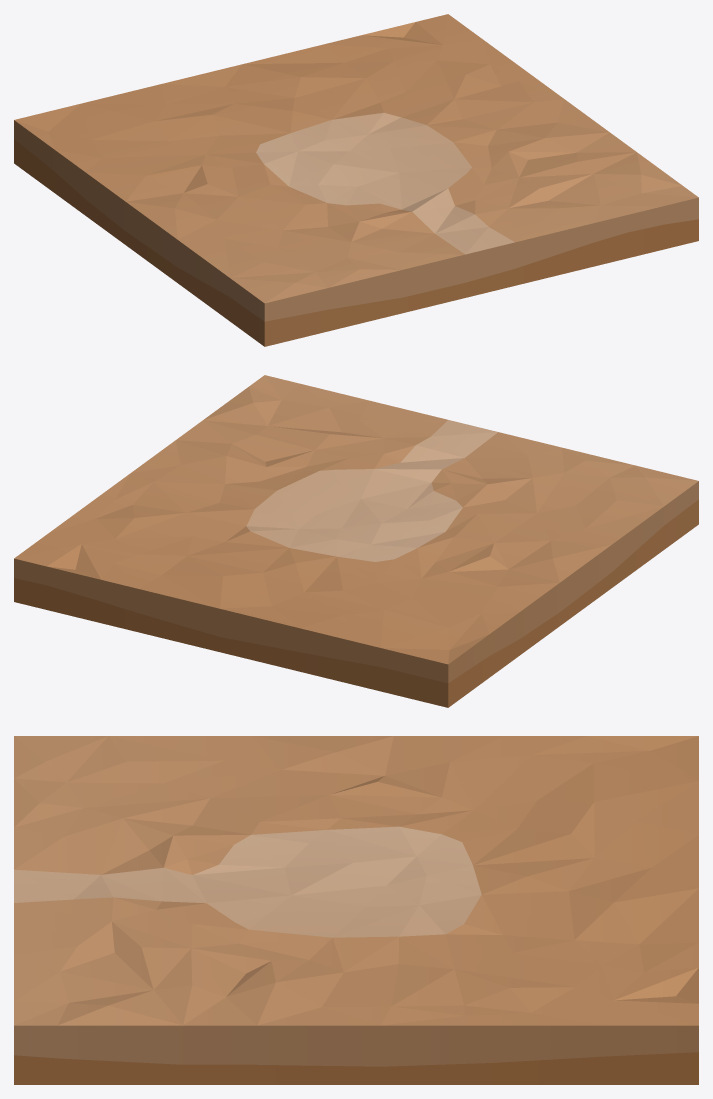
The model's file is land abandoned house.fbx.
3 views of the same model, one above another, from view 1: azimuth 30°, elevation 25°; view 2: azimuth 150°, elevation 25°; view 3: azimuth 270°, elevation 25° (orthographic). The views are drawn at different scales.
Parts seen in each view (by area): view 1: land abandoned house; view 2: land abandoned house; view 3: land abandoned house.
Boxes of the visible parts, x1,y1,x2,y2 form: land abandoned house: (14,14,698,346); land abandoned house: (14,375,698,707); land abandoned house: (14,736,698,1084).
Size of the model in its own units: 4500 by 466 by 4500.
